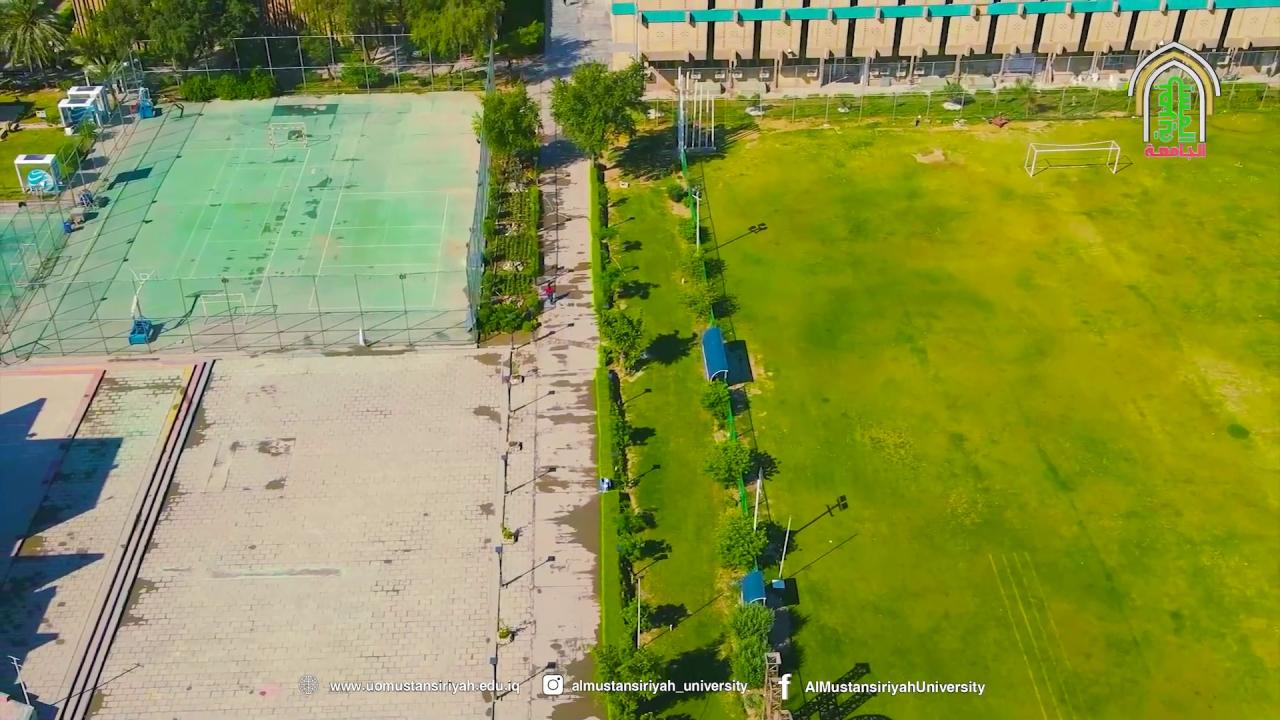person: (544, 280, 555, 304)
tree: (547, 57, 648, 308), (467, 80, 545, 344), (68, 0, 258, 93), (546, 58, 647, 164), (701, 436, 779, 524), (400, 0, 504, 62), (471, 80, 542, 169), (591, 638, 666, 718), (675, 248, 740, 339), (67, 9, 137, 88), (717, 600, 776, 689), (0, 0, 69, 76), (137, 0, 207, 71), (292, 0, 358, 67), (714, 509, 769, 572), (597, 305, 646, 372), (52, 118, 98, 185), (436, 0, 486, 61), (725, 600, 775, 645), (700, 377, 736, 436), (177, 73, 216, 102), (515, 18, 544, 55), (247, 65, 276, 99)
